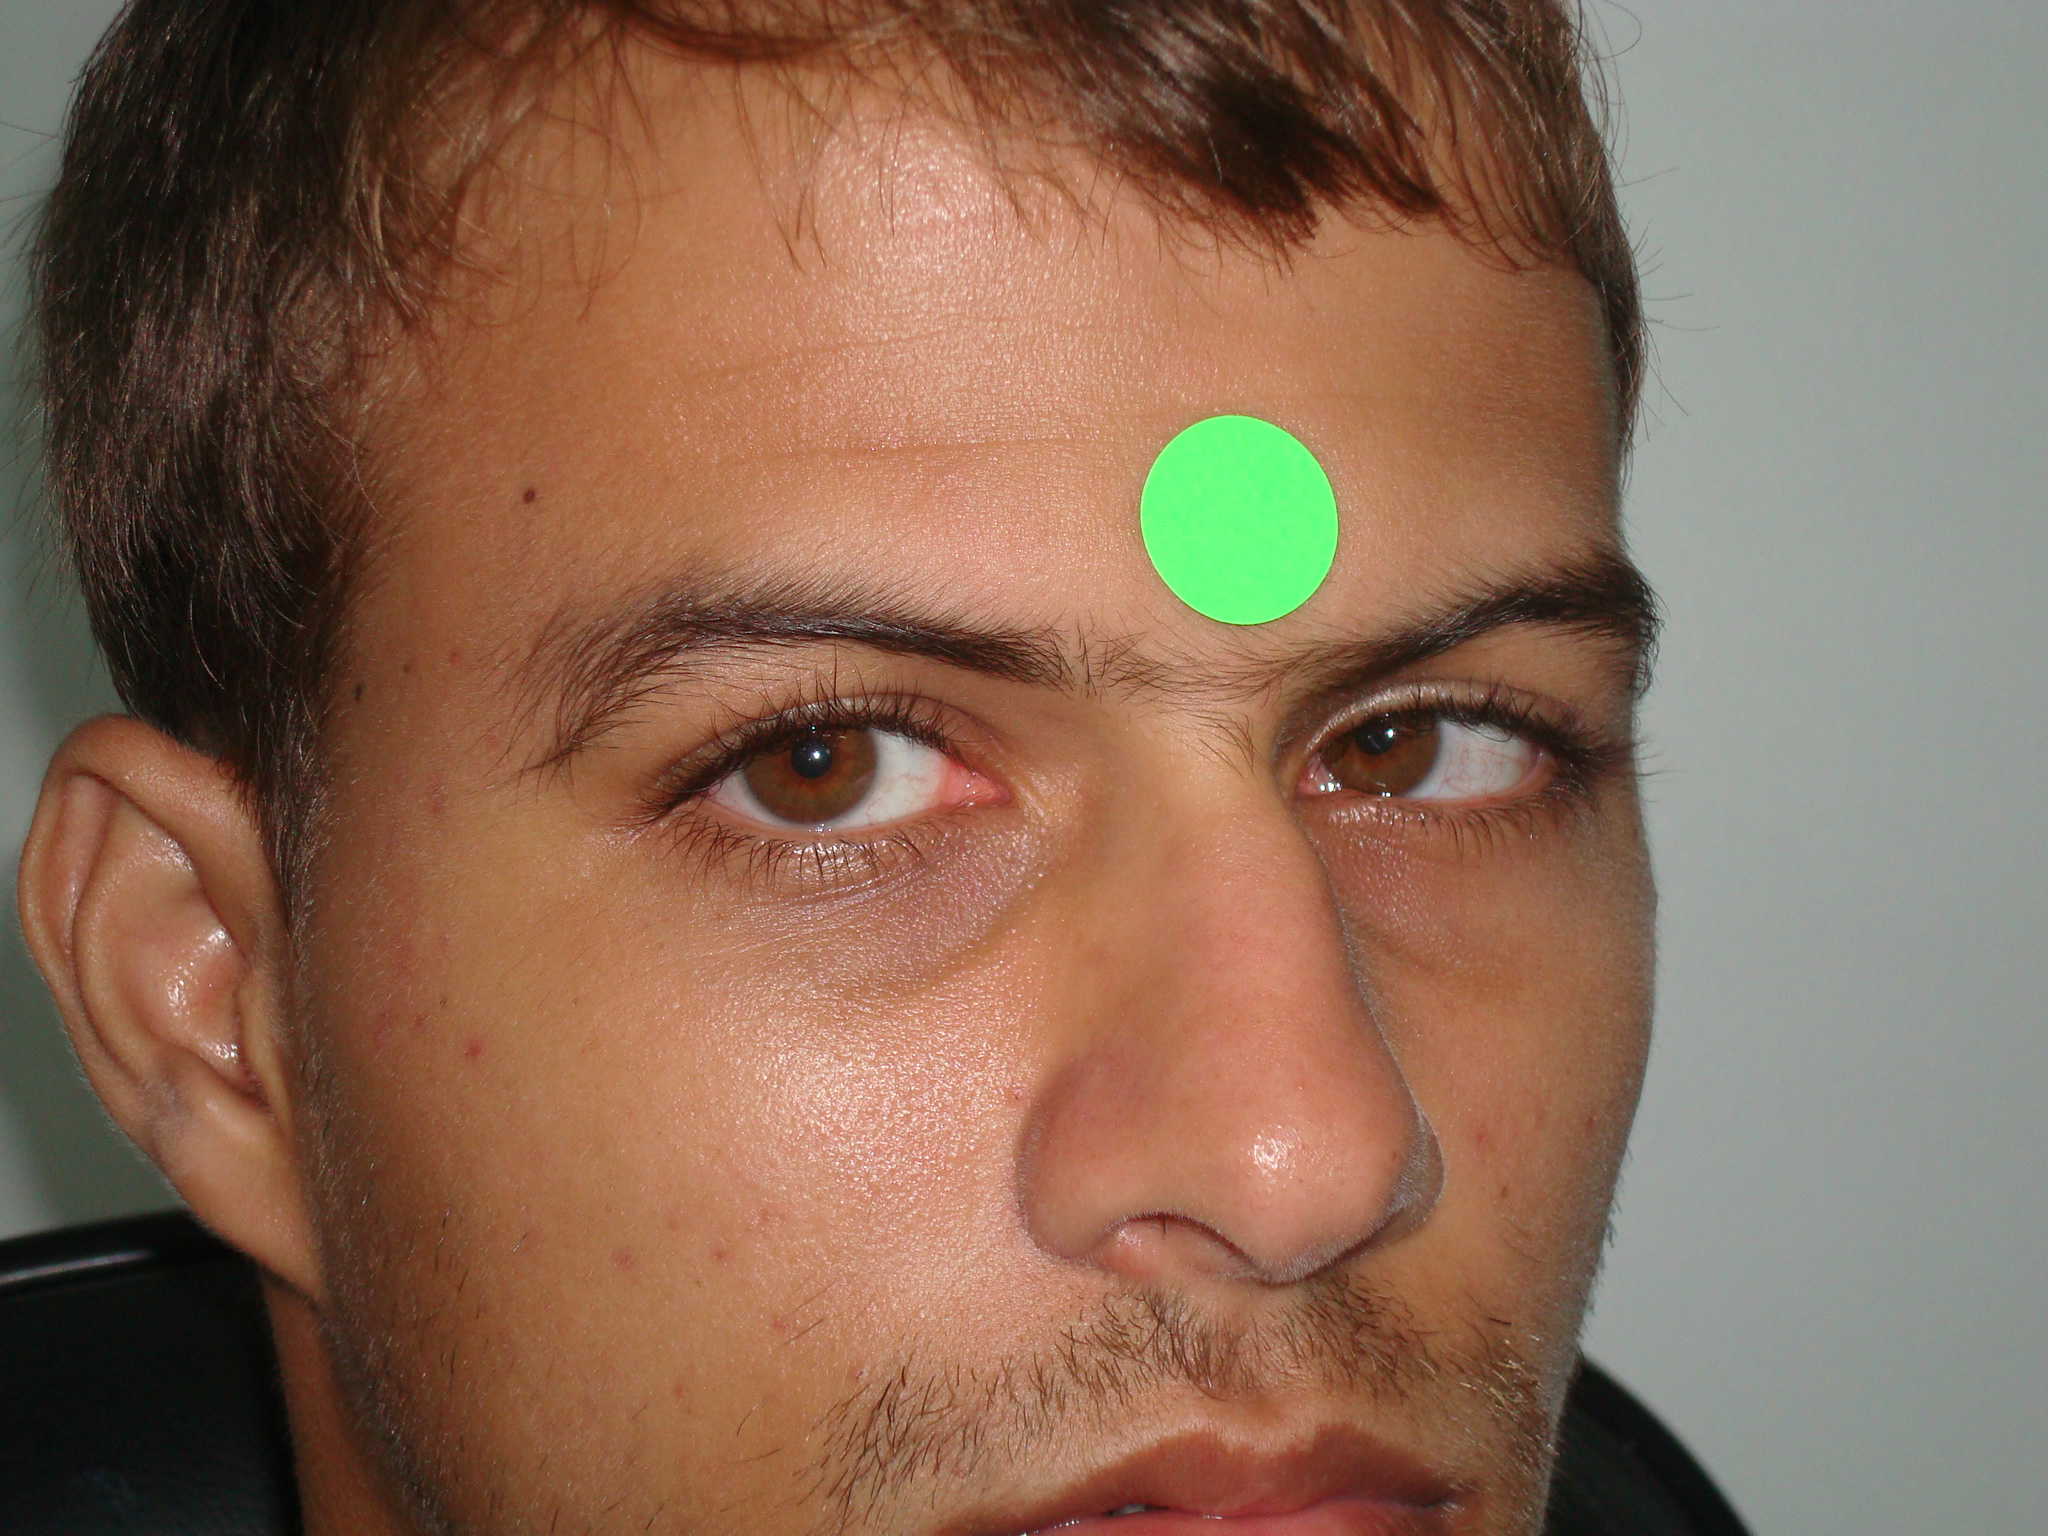flash: (806, 742, 827, 766), (1382, 724, 1398, 742)
limbo: (739, 703, 880, 815), (1316, 686, 1429, 786)
